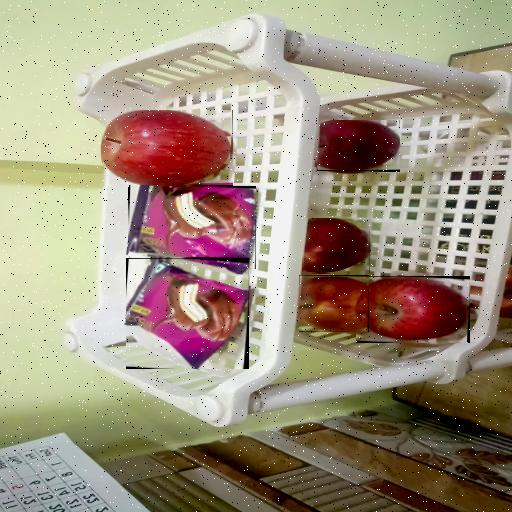Apple: (103, 111, 233, 187), (356, 277, 469, 342), (317, 120, 399, 171), (299, 276, 368, 332), (303, 218, 370, 273)
Choco Pie: (126, 259, 249, 369), (129, 186, 255, 269)
